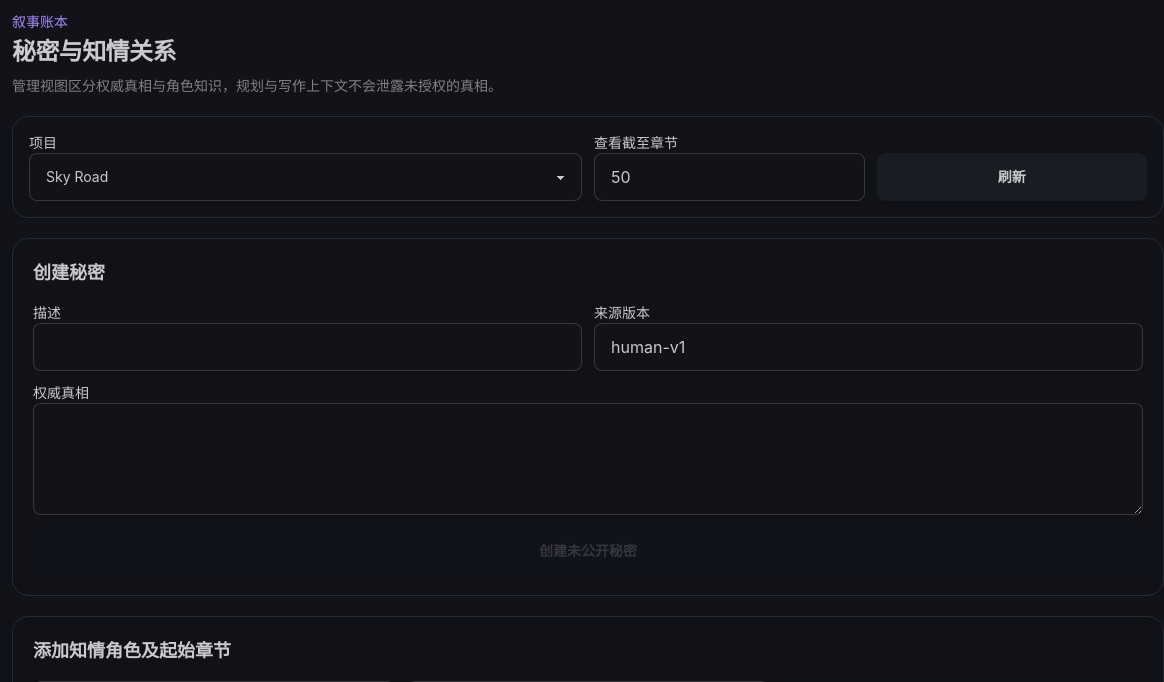
Secrets page › creates a private Secret through a real idempotent write
The width and height of the screenshot is (1164, 682).
Type "The heir's origin" into the field labelled "描述" at (308, 347), box [33,323,582,371]
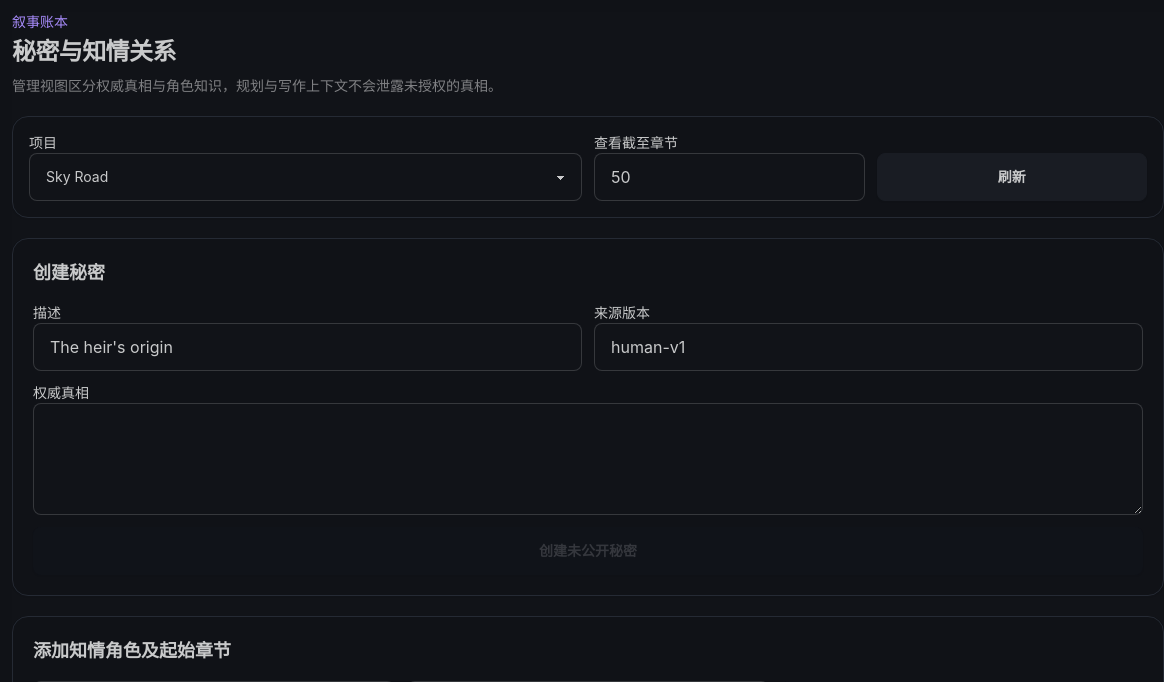
Type "The heir is from the old capital" into the text box labelled "权威真相" at (588, 459), box [33,403,1143,515]
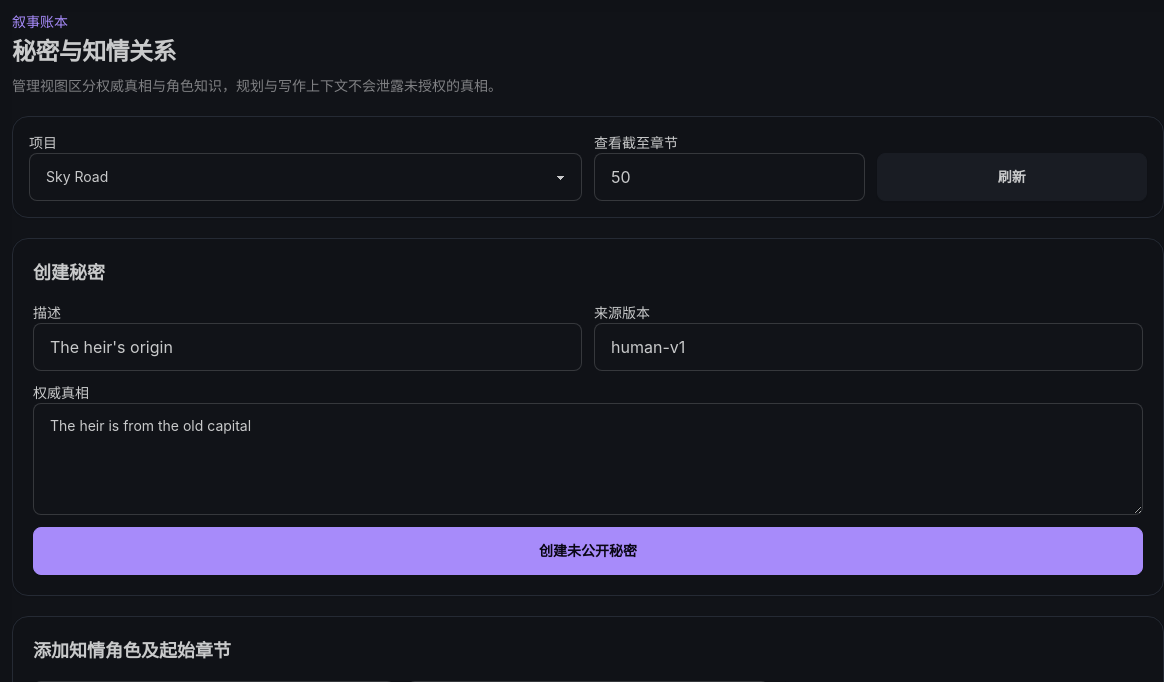
Click the button "创建未公开秘密" at (588, 551), box [33,527,1143,575]
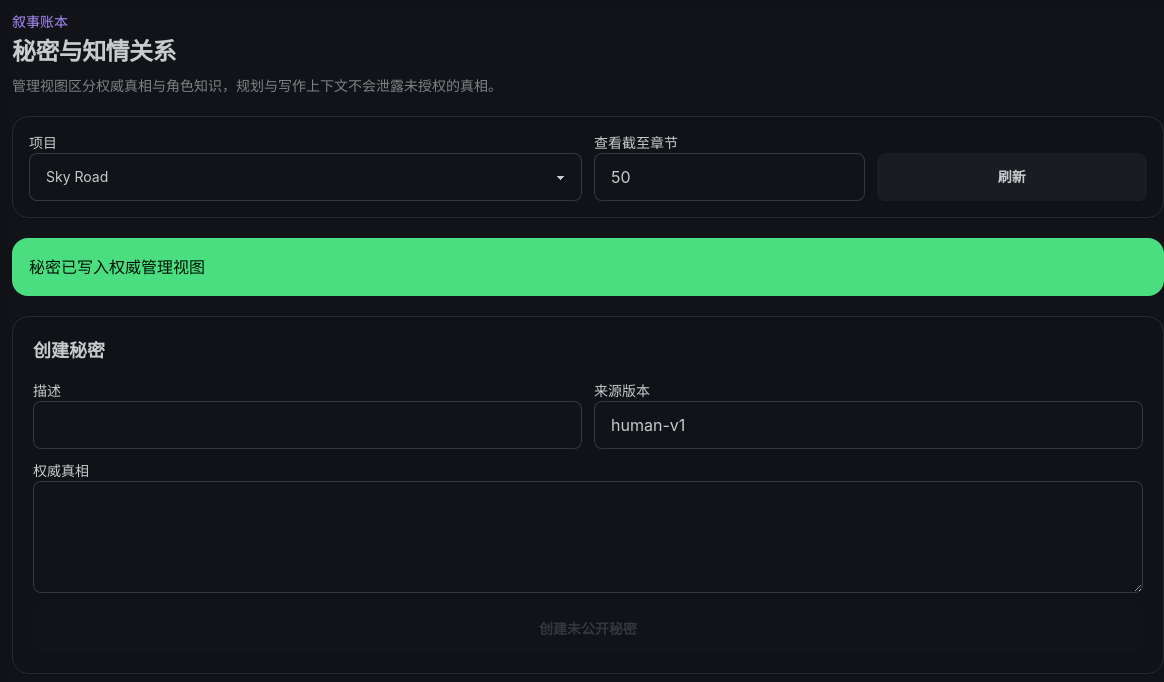
Expected: the text "秘密已写入权威管理视图" is shown, [29,255,205,279]
